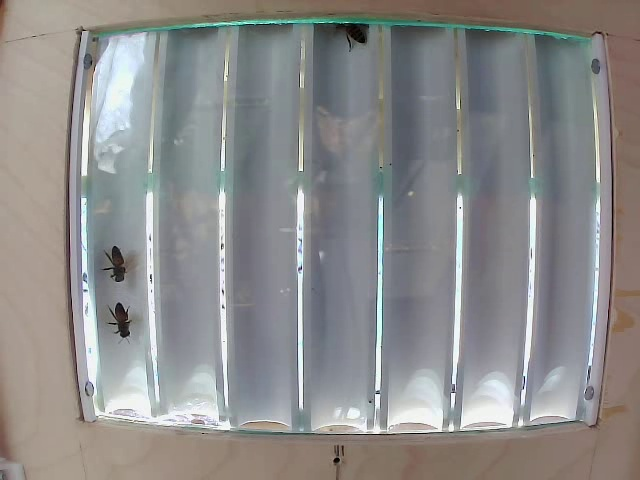bee: (97, 236, 139, 301), (338, 2, 372, 66), (102, 292, 143, 345)
